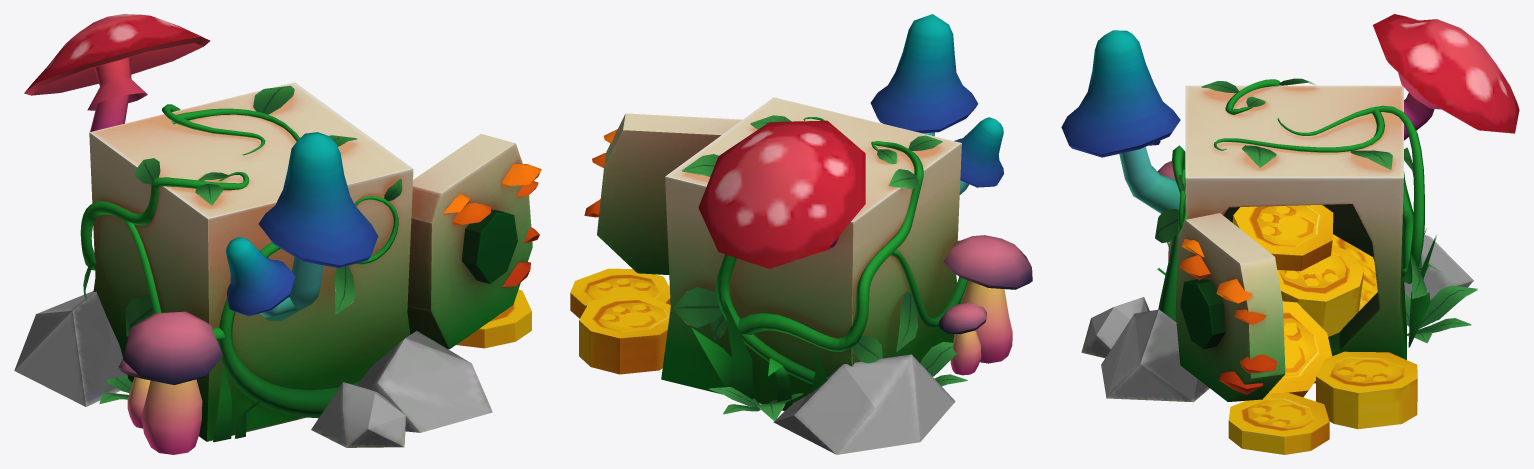
The model's file is Safe Mushroom.obj.
The picture shows the model from 3 angles, left to right: view 1: azimuth 30°, elevation 25°; view 2: azimuth 150°, elevation 25°; view 3: azimuth 270°, elevation 25°; orthographic projection. The views are drawn at different scales.
Parts seen in each view (by area): view 1: SafeMushroom1, Low1; view 2: SafeMushroom1, Low1; view 3: SafeMushroom1, Low1.
Boxes of the visible parts, x1,y1,x2,y2 form: SafeMushroom1: (14,14,541,454); Low1: (37,15,530,438); SafeMushroom1: (570,14,1032,454); Low1: (585,34,1012,414); SafeMushroom1: (1061,14,1519,454); Low1: (1152,19,1466,292).
Bounding box in the file's own units: 11.29 × 7.7 × 10.98.
1 material, 1 textured.
